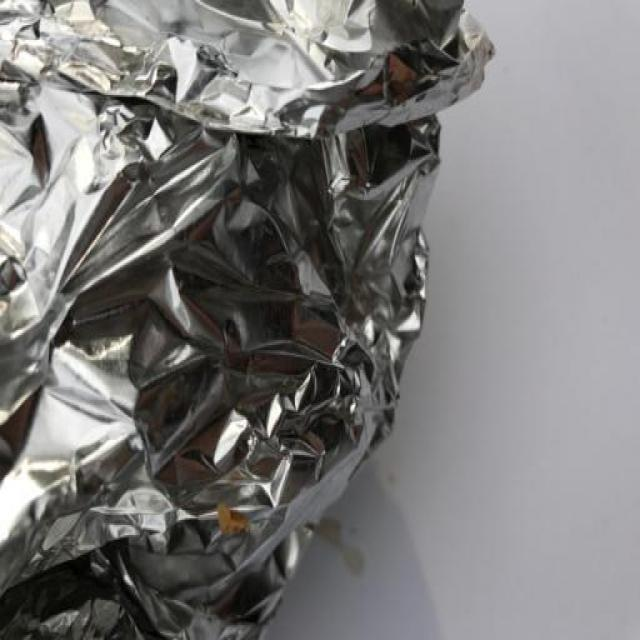others: (1, 1, 483, 622)
